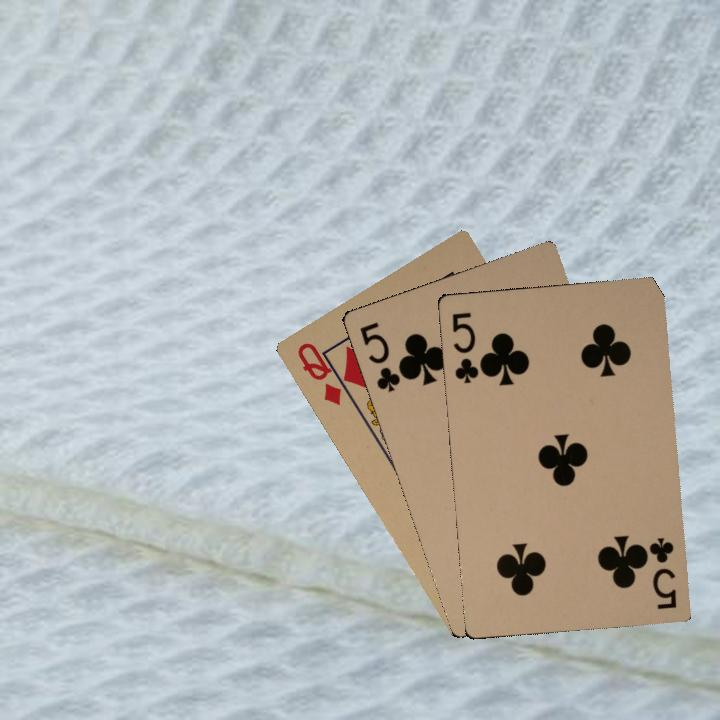5c: (356, 318, 408, 395), (448, 308, 487, 386), (641, 534, 679, 612)
Qd: (293, 338, 357, 408)
